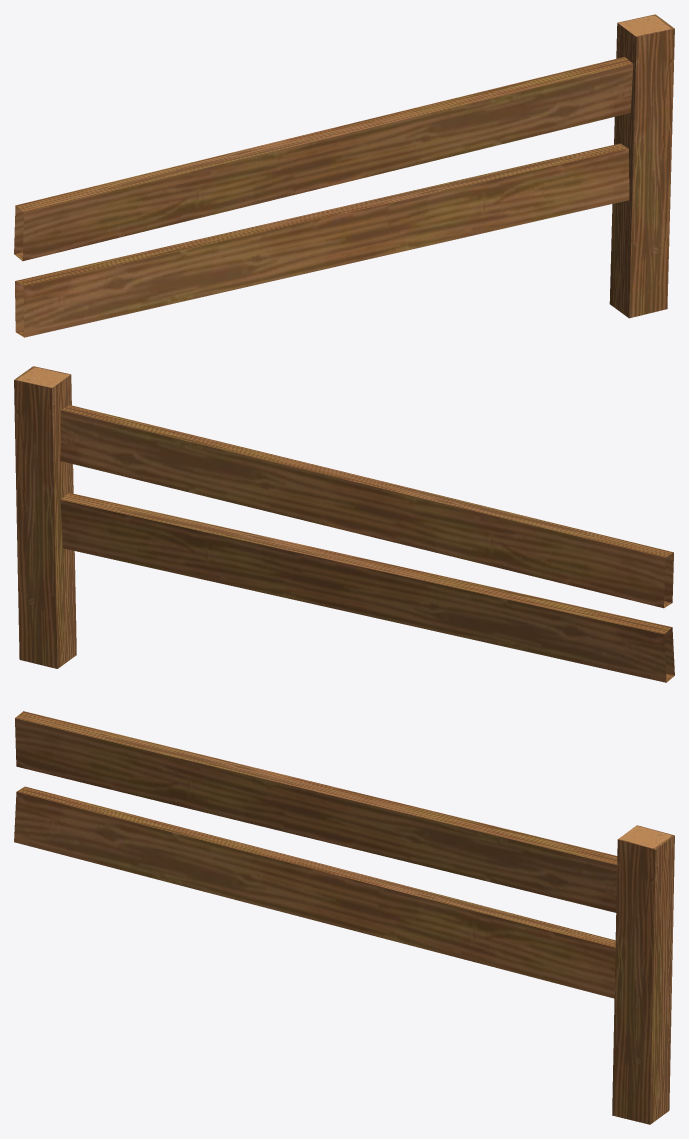
File: Prop_WoodenFence_Extension2.gltf
The picture shows the model from 3 angles, top to bottom: view 1: azimuth 30°, elevation 25°; view 2: azimuth 150°, elevation 25°; view 3: azimuth 330°, elevation 25°; orthographic projection.
Visible parts, largest first — view 1: Prop_WoodenFence_Extension2; view 2: Prop_WoodenFence_Extension2; view 3: Prop_WoodenFence_Extension2.
Boxes of the visible parts, box(x1,y1,x2,y2) form: Prop_WoodenFence_Extension2: box(14, 14, 674, 337); Prop_WoodenFence_Extension2: box(14, 366, 674, 682); Prop_WoodenFence_Extension2: box(14, 711, 674, 1124).
Bounding box in the file's own units: 2.03 × 0.8381 × 0.1104.
1 material, 1 textured.
